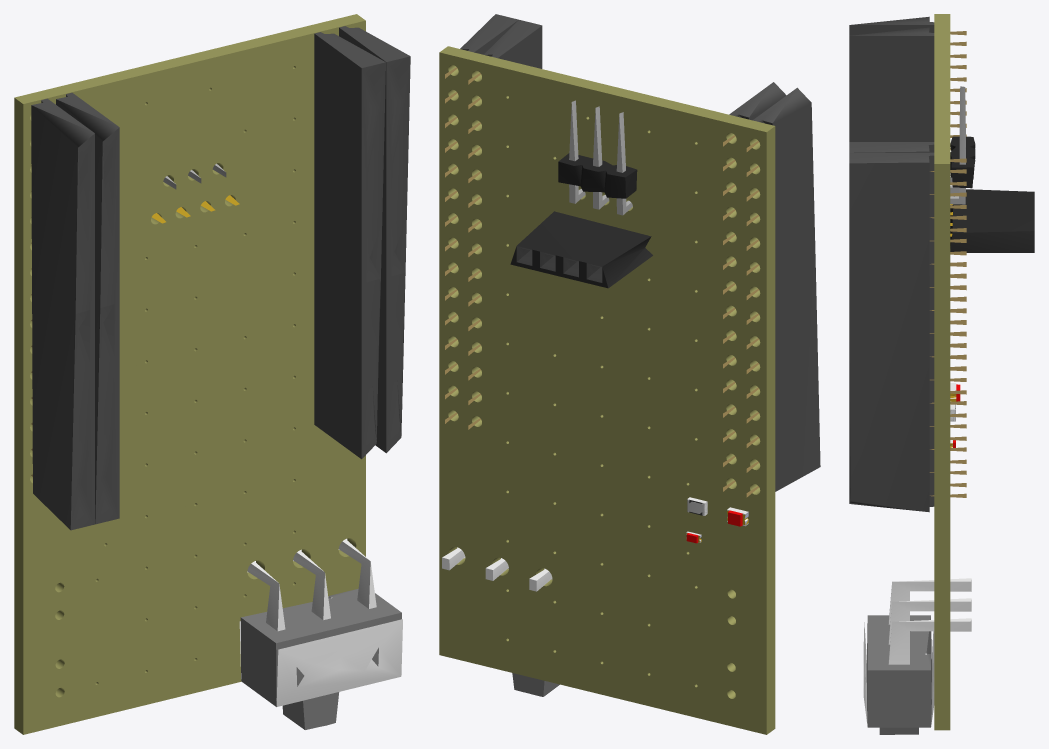
The model's file is 3D_PCB1_2024-10-08.obj.
3 renders of one model, left to right at view 1: azimuth 30°, elevation 25°; view 2: azimuth 150°, elevation 25°; view 3: azimuth 270°, elevation 25°, orthographic. The views are drawn at different scales.
Size of the model in its own units: 35.28 by 65.51 by 18.43.
